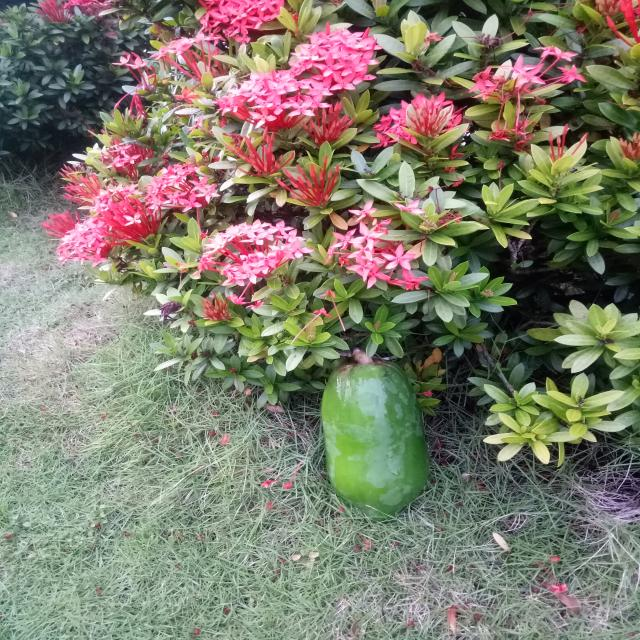Pepaya unrippen: (319, 357, 441, 517)
